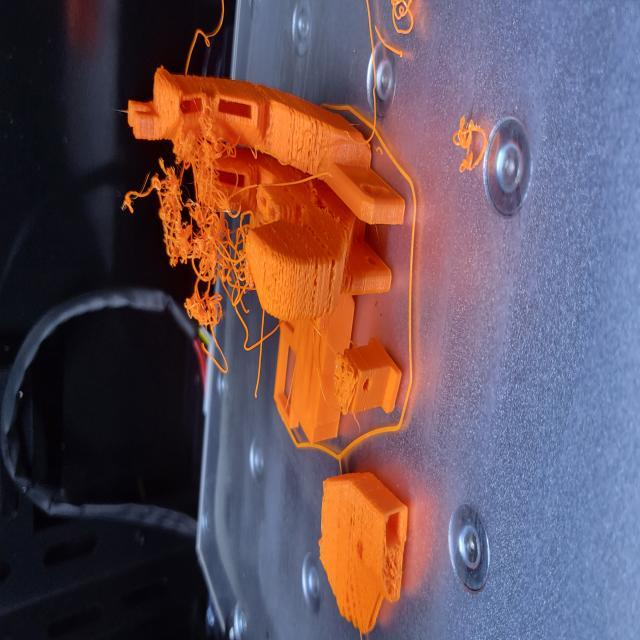Spaghetti: (155, 180, 190, 262), (210, 243, 245, 290)
